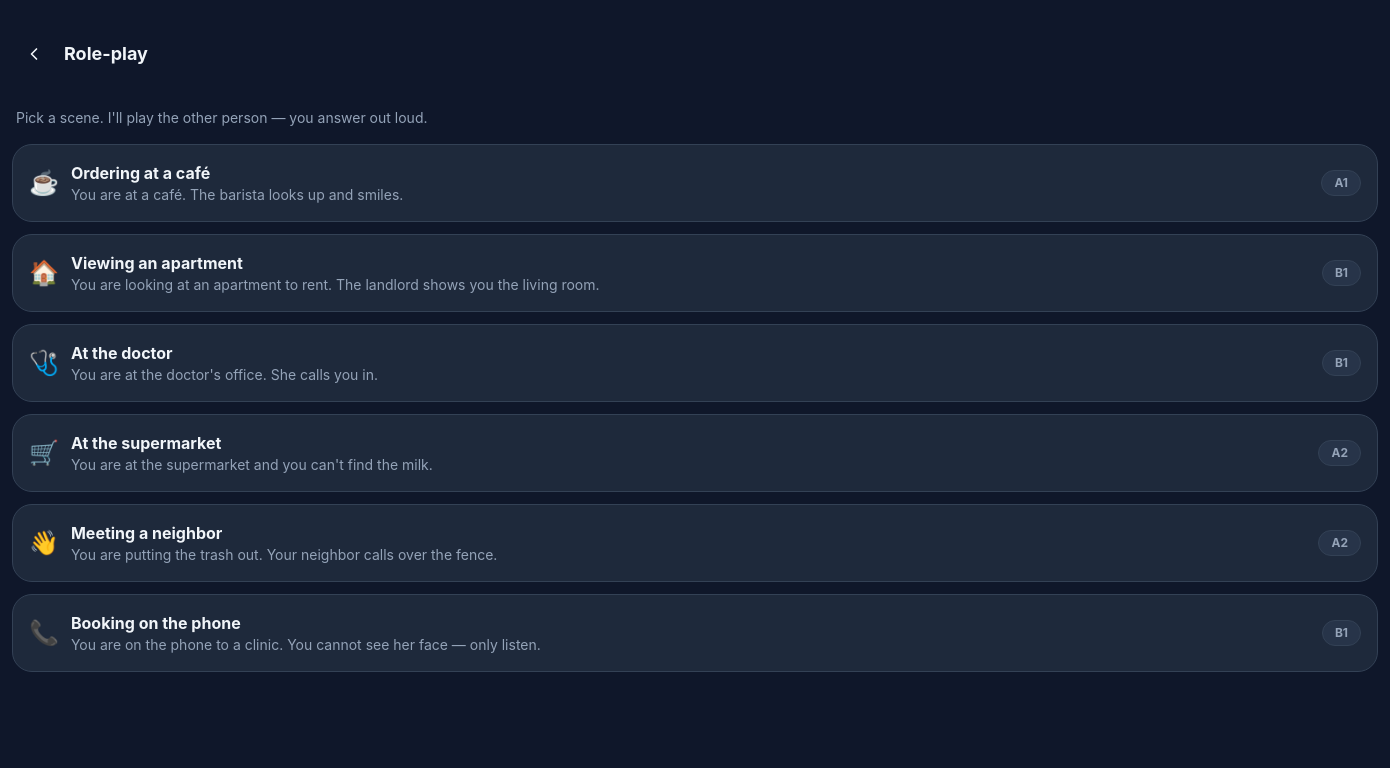
Scenario: Role-play, one scene through to the end › reveals the English only when she asks for it
Click the button with test id "roleplay-cafe".
click(141, 173)  # box [12,144,1378,222]
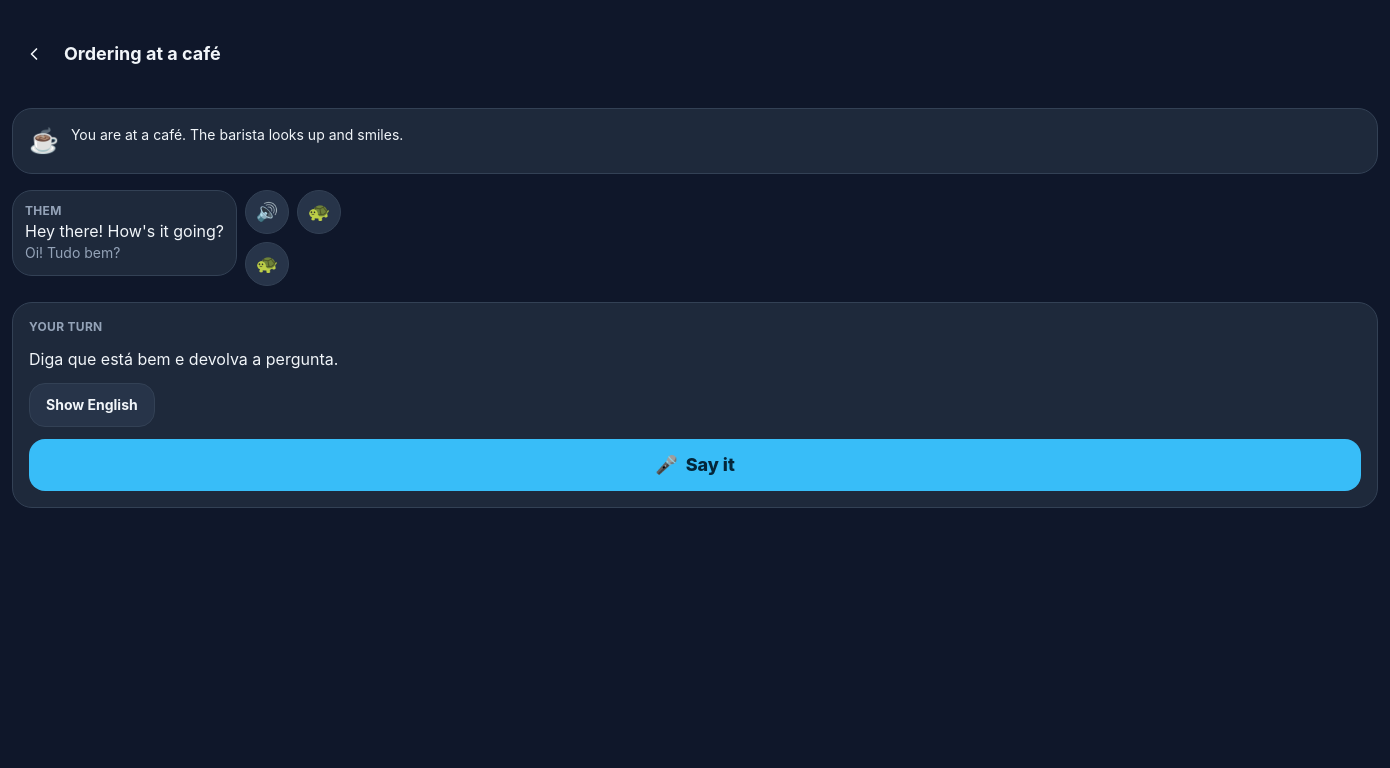
Click the button with test id "roleplay-peek".
click(92, 405)  # box [29,383,155,427]
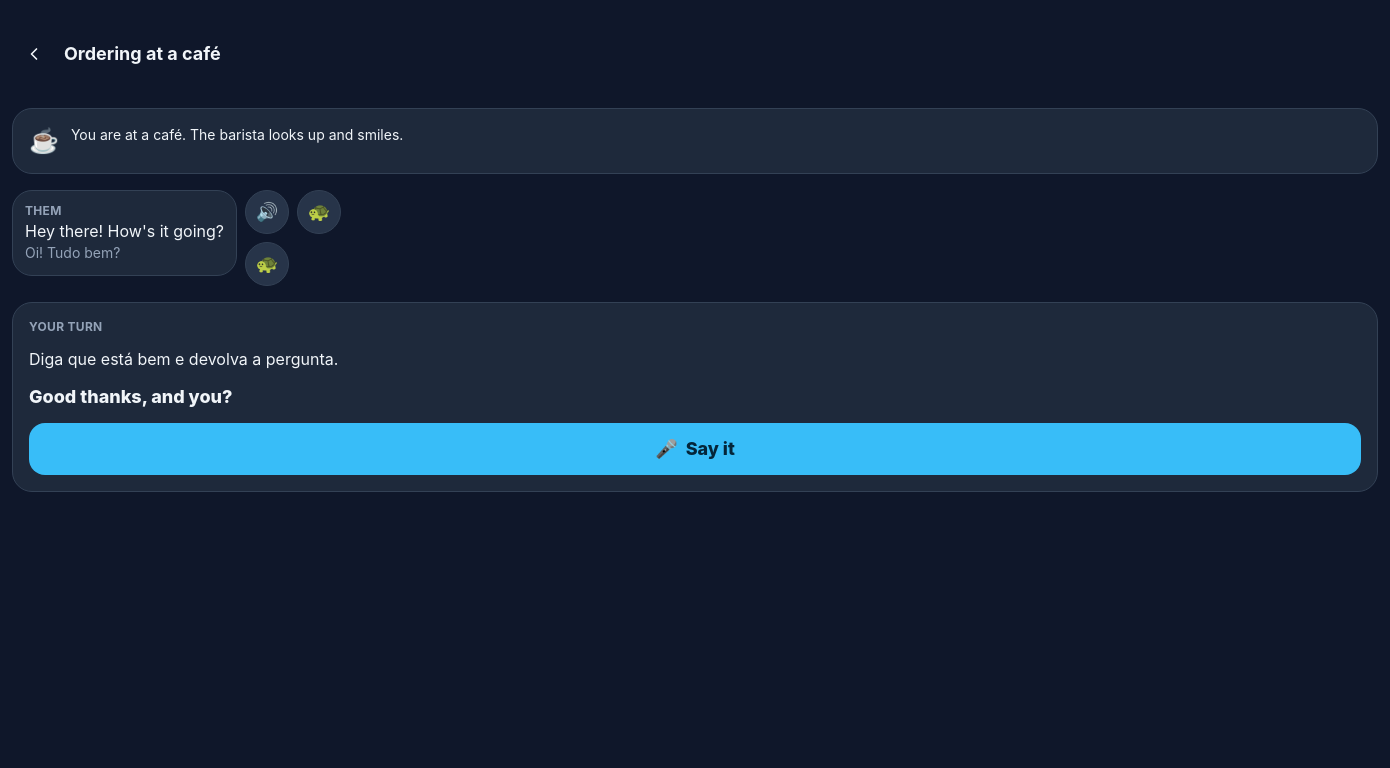
Expected: the text with test id "roleplay-target" reads "Good thanks, and you?", [29,386,232,407]
